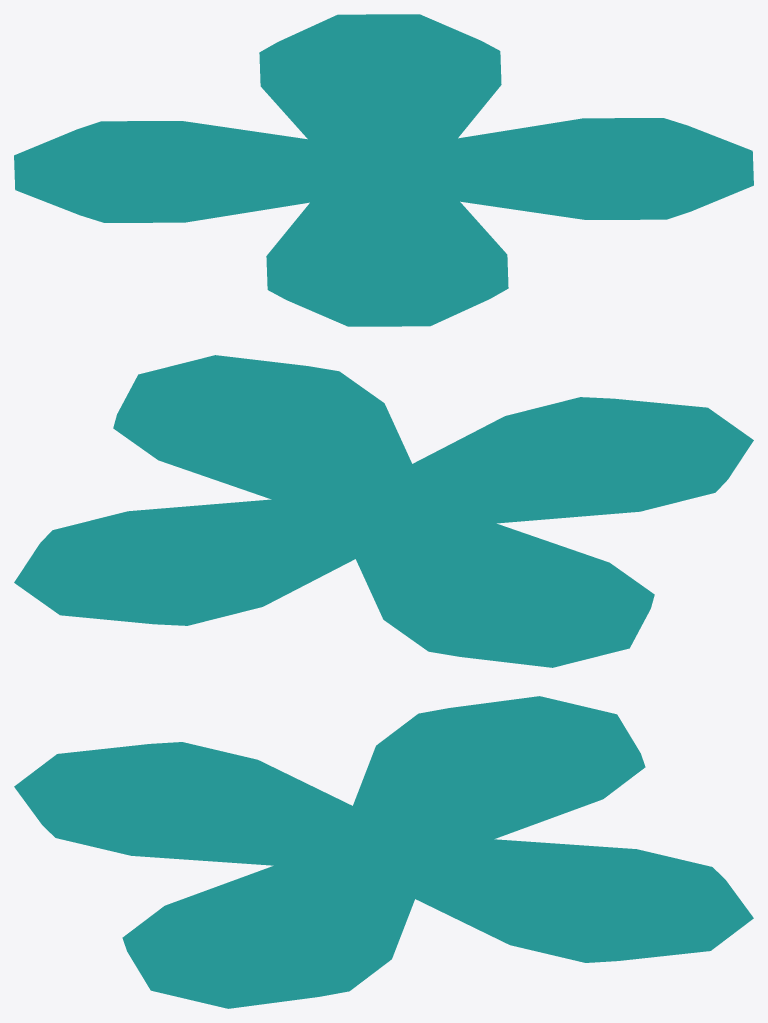
Rendered from frog_color_7.fbx.
3 views of the same model, one above another, from view 1: azimuth 30°, elevation 25°; view 2: azimuth 150°, elevation 25°; view 3: azimuth 270°, elevation 25° (orthographic). The views are drawn at different scales.
Visible parts, largest first — view 1: frog_color_7; view 2: frog_color_7; view 3: frog_color_7.
Part boxes in pixels (left/top/right/bottom): frog_color_7: left=14, top=14, right=753, bottom=326; frog_color_7: left=14, top=355, right=753, bottom=667; frog_color_7: left=14, top=696, right=753, bottom=1008.
Bounding box in the file's own units: 37.51 × 0 × 37.5.
